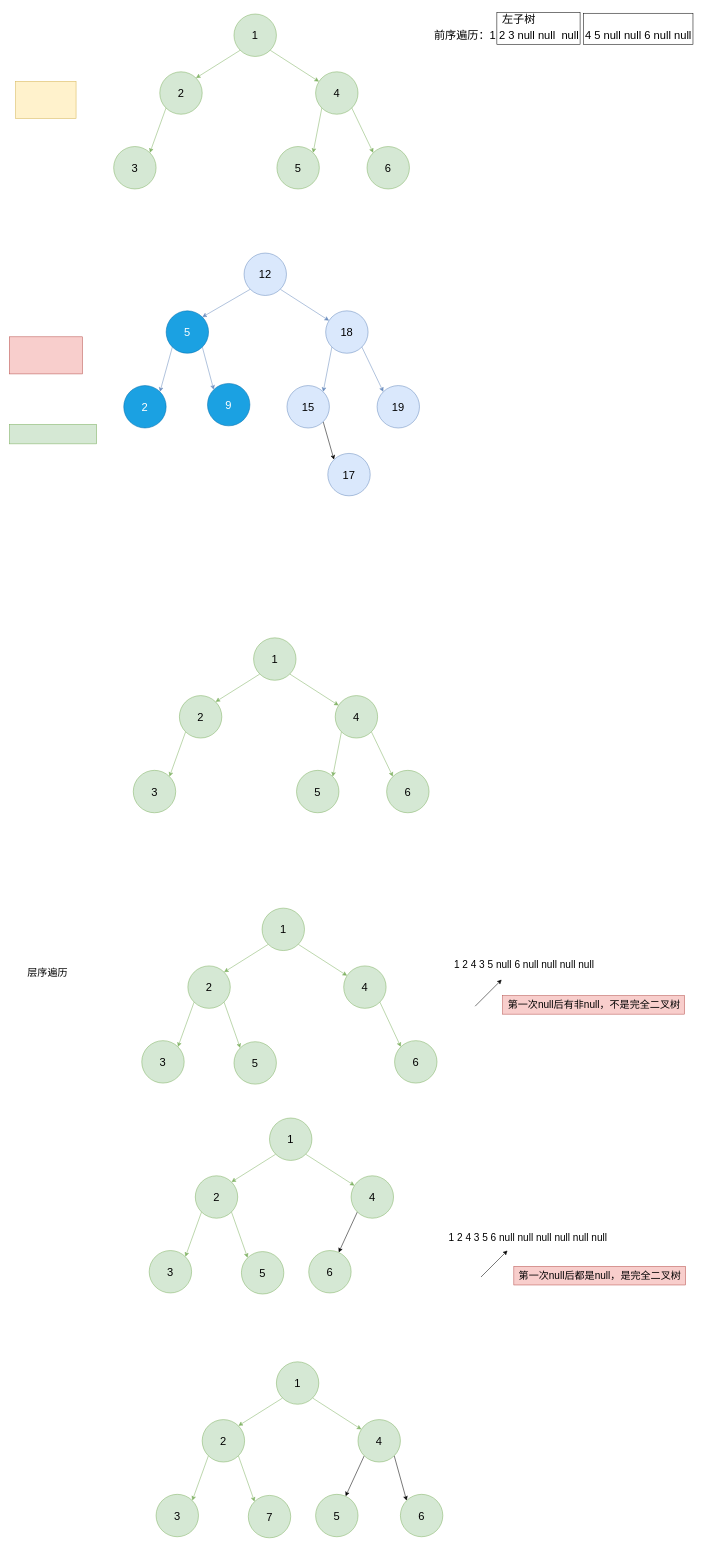
Some shapes in this 708 by 1547 pixel diagram are drawn without their labels. The centre of each missing label's shape, as x and y in pixels:
"右子树" goes at point (638, 28).
"增删查改有价值" goes at point (53, 434).
"搜索二叉树 左孩子节点比父节点小 右孩子节点比父节点大" goes at point (45, 355).
"链式二叉树 增删查改没有意义" goes at point (45, 99).
